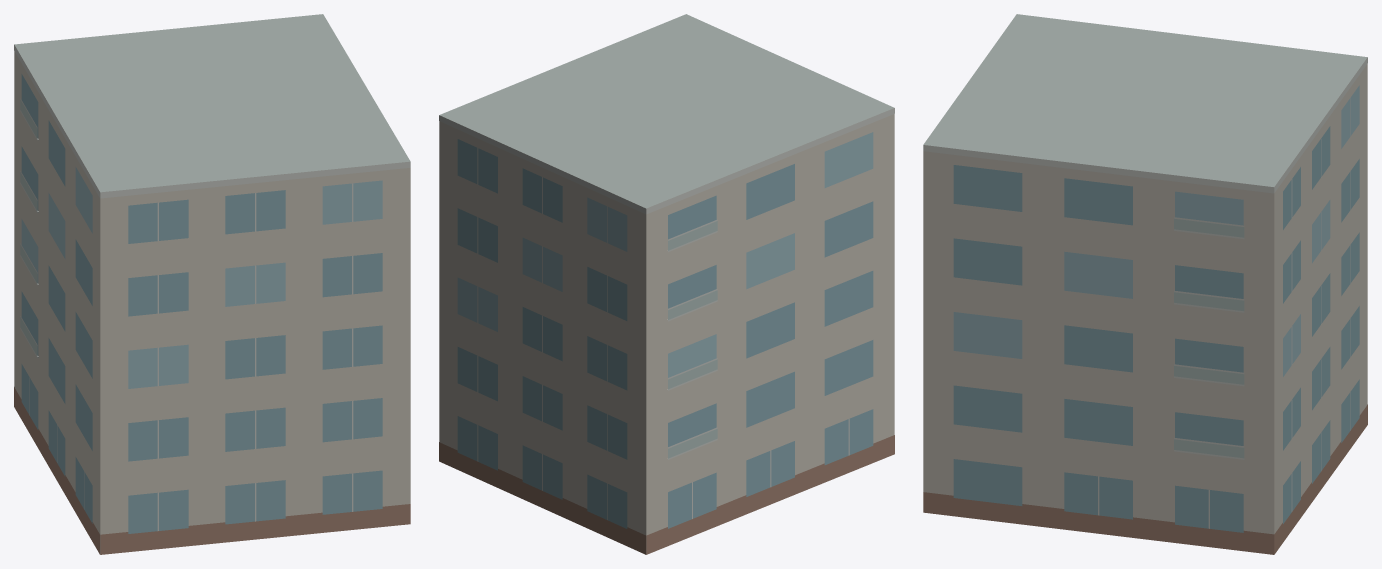
Rendered from survey-upis-32966367.glb.
3 views of the same model, side by side, from view 1: azimuth 30°, elevation 25°; view 2: azimuth 150°, elevation 25°; view 3: azimuth 270°, elevation 25° (orthographic). The views are drawn at different scales.
Parts seen in each view (by area): view 1: survey-upis-32966367.tmp; view 2: survey-upis-32966367.tmp; view 3: survey-upis-32966367.tmp.
Part boxes in pixels (bbox=[...]): survey-upis-32966367.tmp: bbox=[14, 14, 410, 554]; survey-upis-32966367.tmp: bbox=[439, 14, 894, 554]; survey-upis-32966367.tmp: bbox=[923, 14, 1367, 554].
Bounding box in the file's own units: 14.46 × 14.3 × 15.68.
